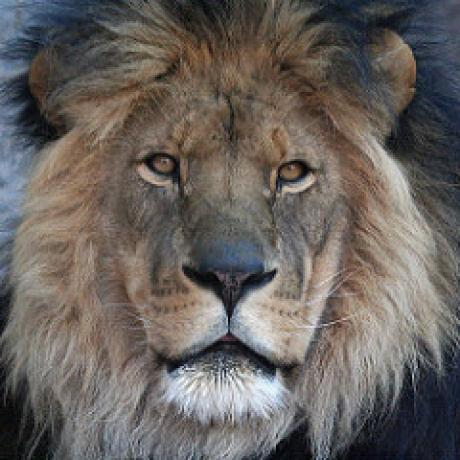Lion: (6, 0, 460, 460)
